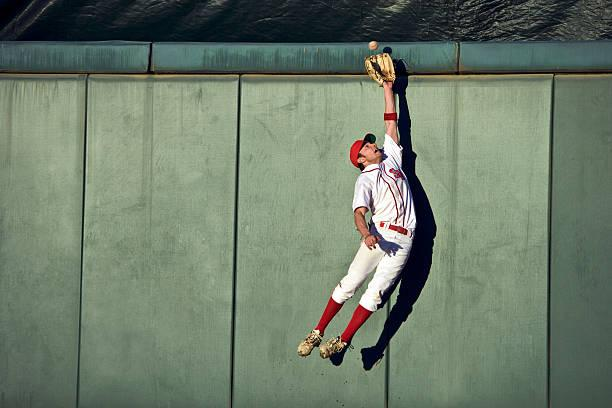baseball: (368, 40, 379, 51)
